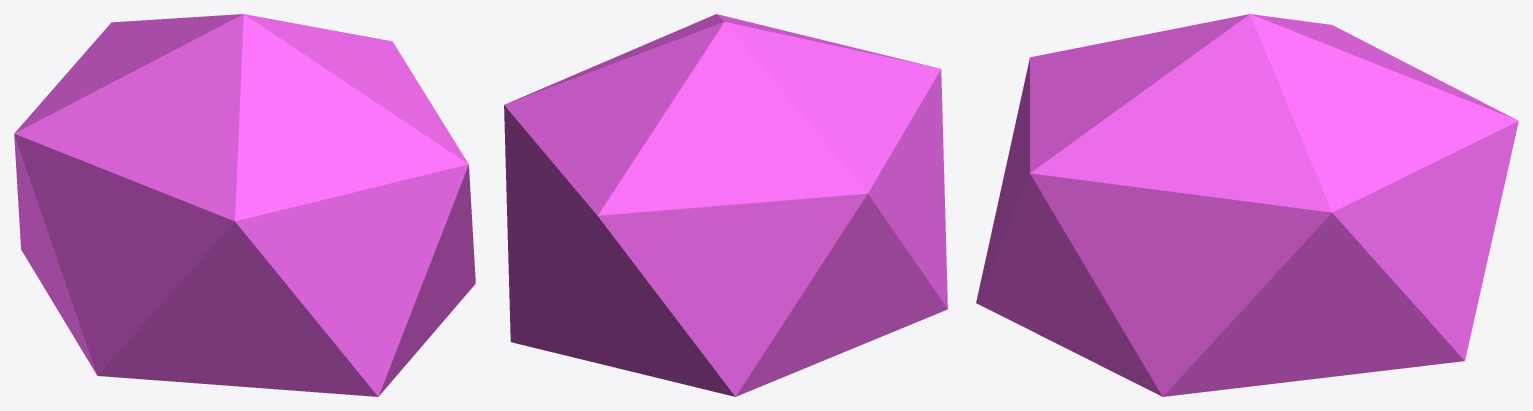
The model's file is Bush 2.fbx.
3 renders of one model, left to right at view 1: azimuth 30°, elevation 25°; view 2: azimuth 150°, elevation 25°; view 3: azimuth 270°, elevation 25°, orthographic. The views are drawn at different scales.
Visible parts, largest first — view 1: Bush 2; view 2: Bush 2; view 3: Bush 2.
Part boxes in pixels (<box>): Bush 2: <box>14,14,475,396</box>; Bush 2: <box>504,14,947,396</box>; Bush 2: <box>976,14,1518,396</box>.
Size of the model in its own units: 147 by 105 by 180.
1 material, 1 textured.
